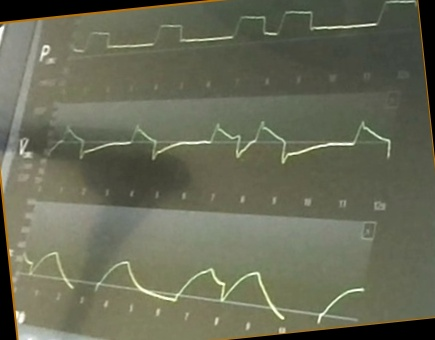Double_Triggering Flow: (53, 113, 392, 175)
Double_Triggering Volume: (23, 246, 364, 321)
